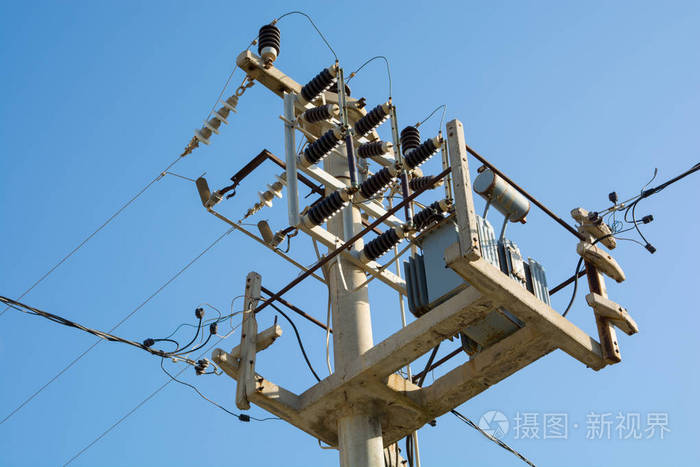insulator: (194, 99, 236, 146), (256, 173, 287, 207)
